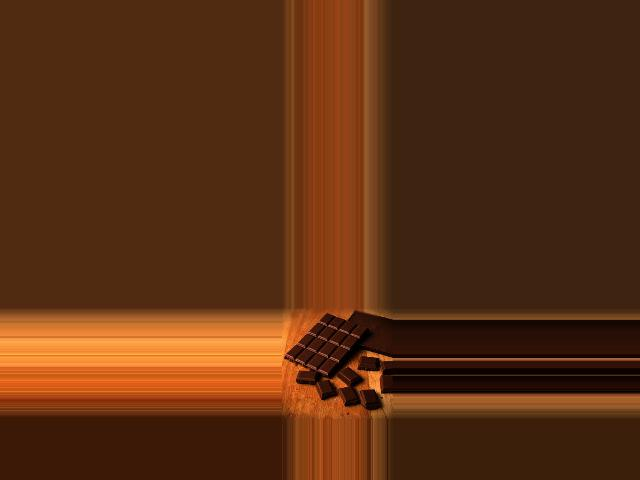chocolate: (287, 313, 368, 381)
